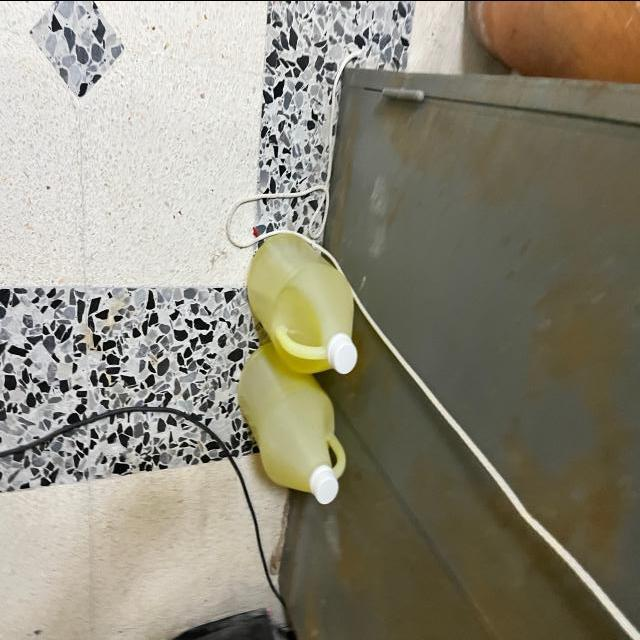HDPE Plastic: (231, 339, 349, 514), (242, 230, 366, 376)
